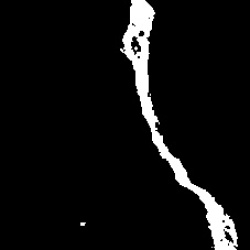crack: (121, 1, 239, 249)
